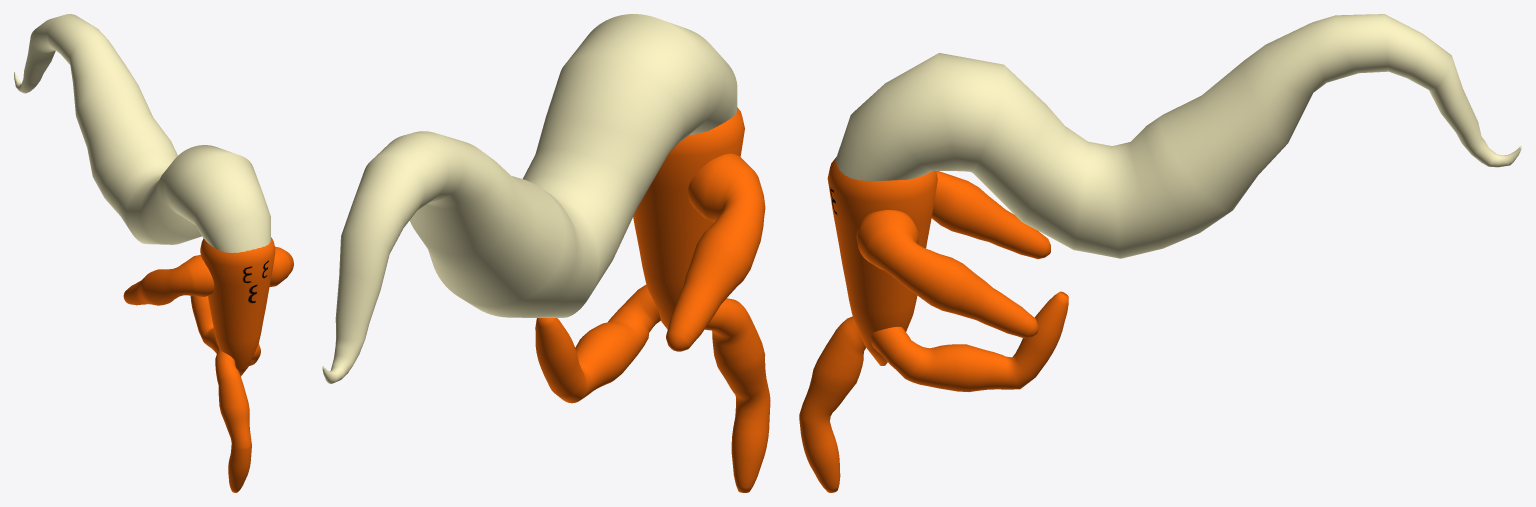
Rendered from CarrotChan.fbx.
3 views of the same model, side by side, from view 1: azimuth 30°, elevation 25°; view 2: azimuth 150°, elevation 25°; view 3: azimuth 270°, elevation 25° (orthographic). The views are drawn at different scales.
Parts seen in each view (by area): view 1: CarrotChan7; view 2: CarrotChan7; view 3: CarrotChan7.
Part boxes in pixels (x1,y1,x2,y2): CarrotChan7: (14,14,293,492); CarrotChan7: (322,14,770,492); CarrotChan7: (799,14,1521,492).
Bounding box in the file's own units: 117 × 277 × 372.
